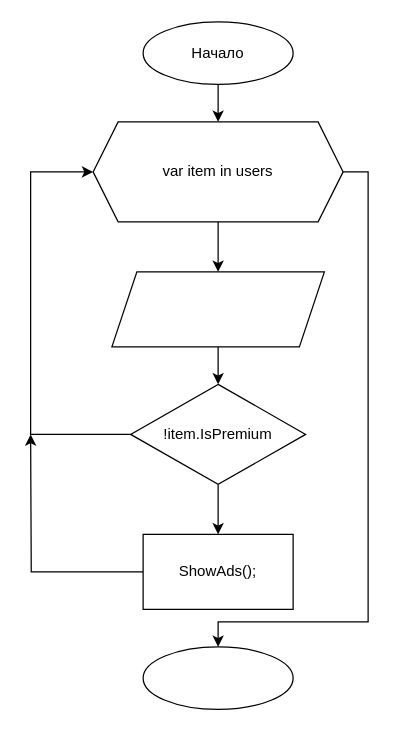
This 400x731 diagram has some shape labels left out. Each missing label, with the box of its shape:
$"Hello, {item.Name}": (111, 271, 324, 347)
Конец: (142, 646, 293, 709)
